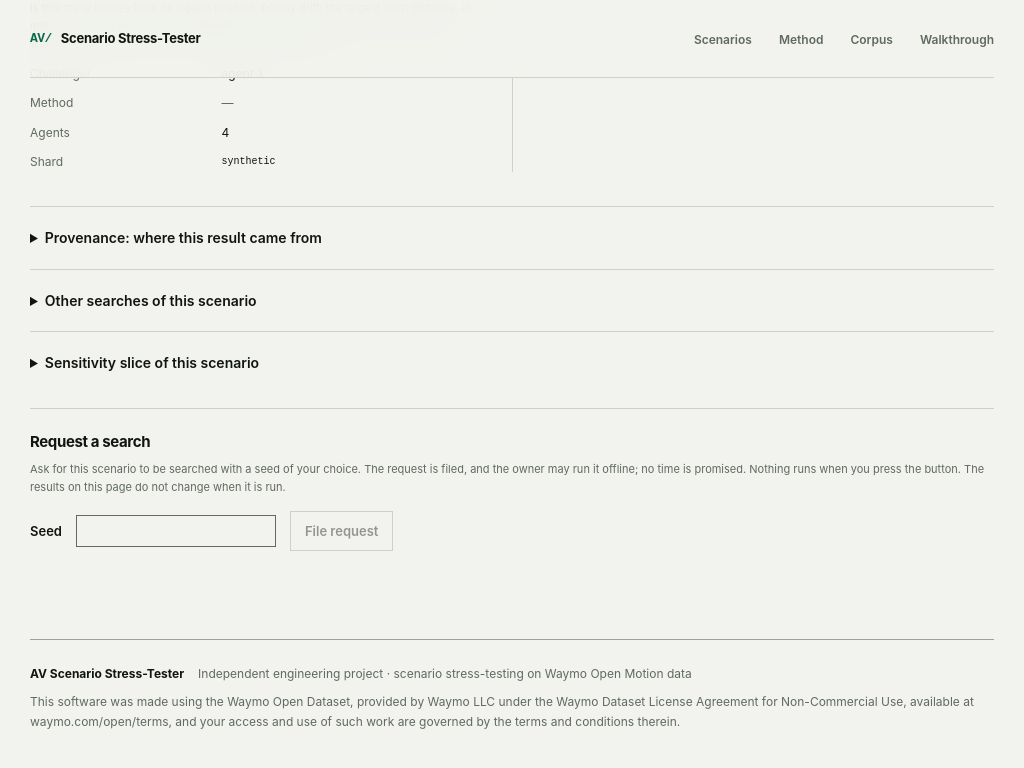
the words the project cannot back do not appear › on the request form, with a request that was filed before
This screenshot has width=1024, height=768.
(page scrolled)
Type "3" into the field labelled "Seed" at (176, 531), box [76,514,276,547]
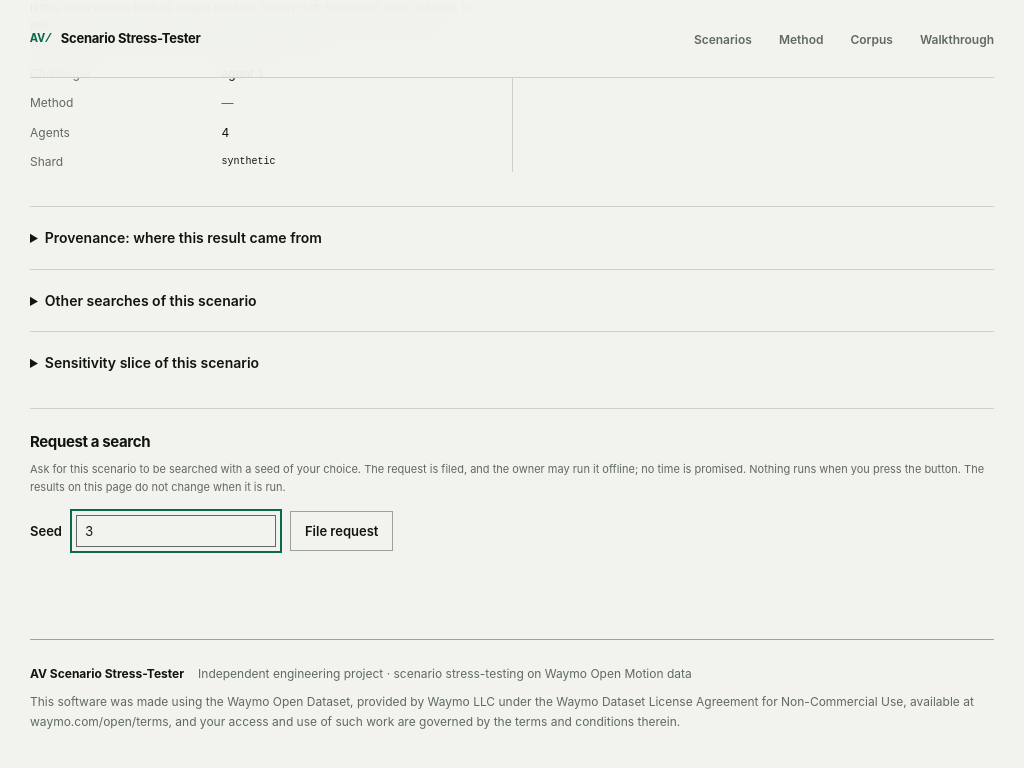
Click the button "File request" at (342, 531), box [290,510,394,551]
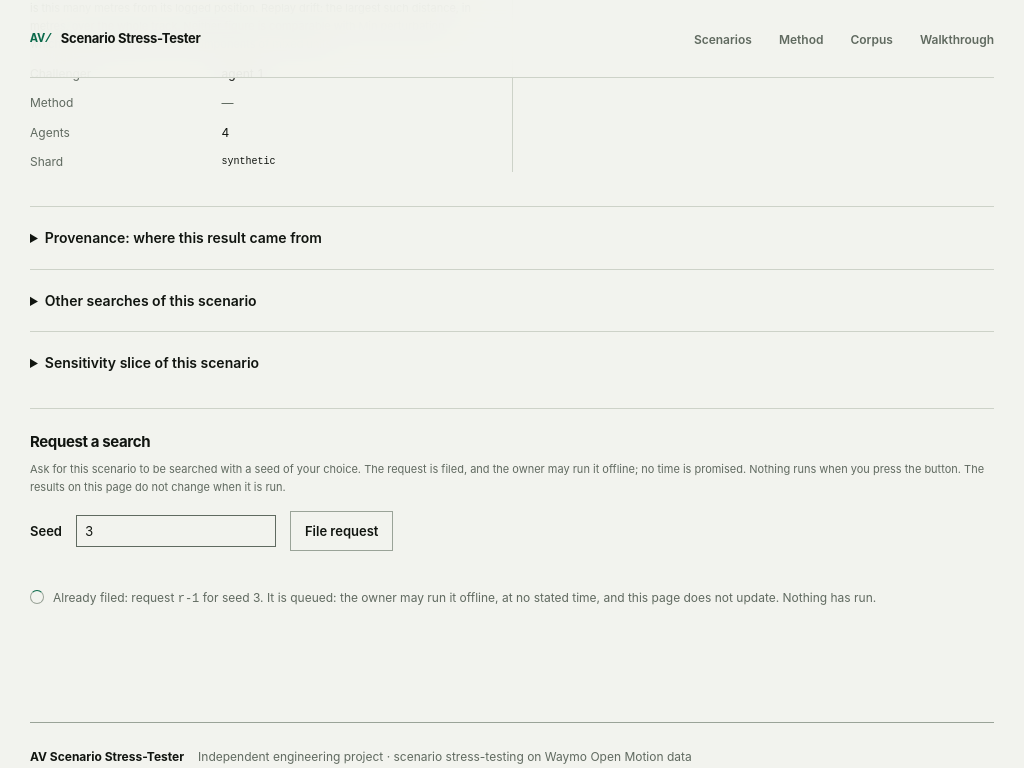
Expected: the text "Already filed" is shown, [53,590,124,605]
